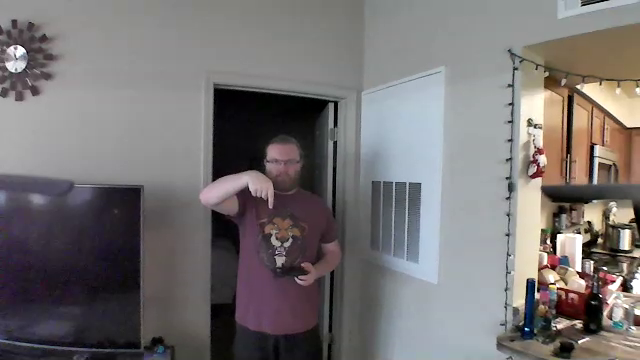down: (241, 165, 276, 212)
